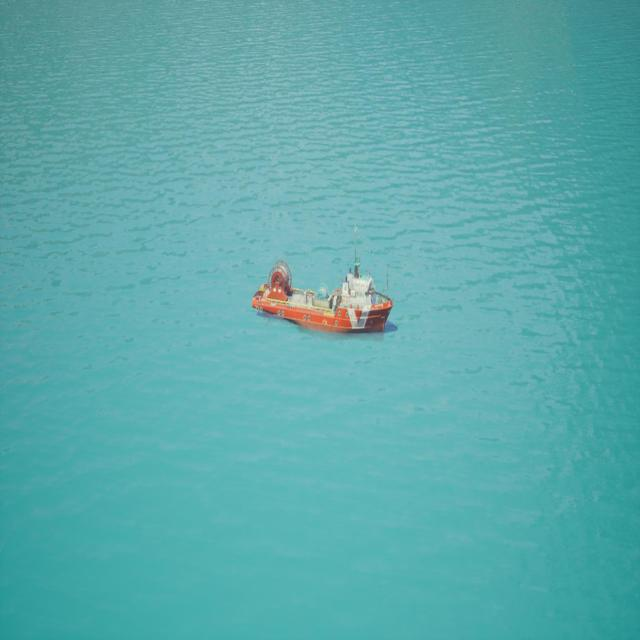tug boat: (253, 260, 394, 336)
